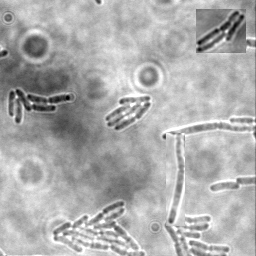Dividing: (161, 123, 255, 142), (166, 133, 185, 226)
Microcolony: (51, 200, 147, 255), (162, 212, 231, 255), (8, 89, 72, 126), (196, 9, 246, 53), (106, 96, 153, 132), (208, 182, 240, 193)
